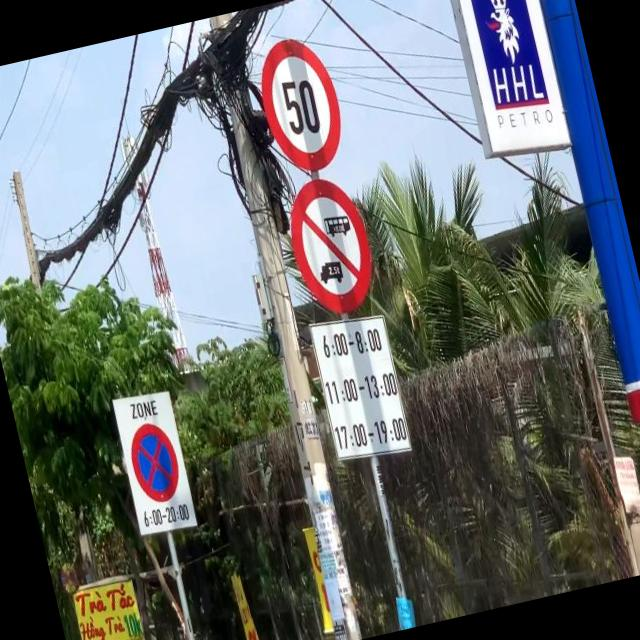P-127: (251, 31, 351, 178)
P-130: (124, 418, 184, 505)
